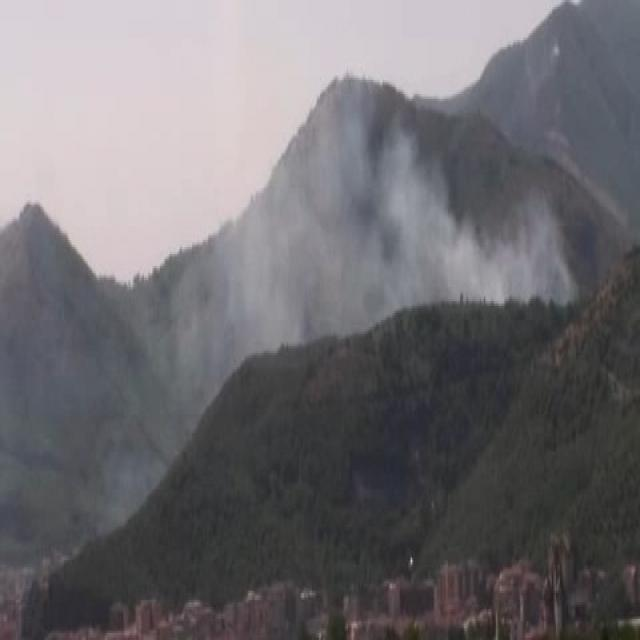smoke: (328, 94, 514, 314)
